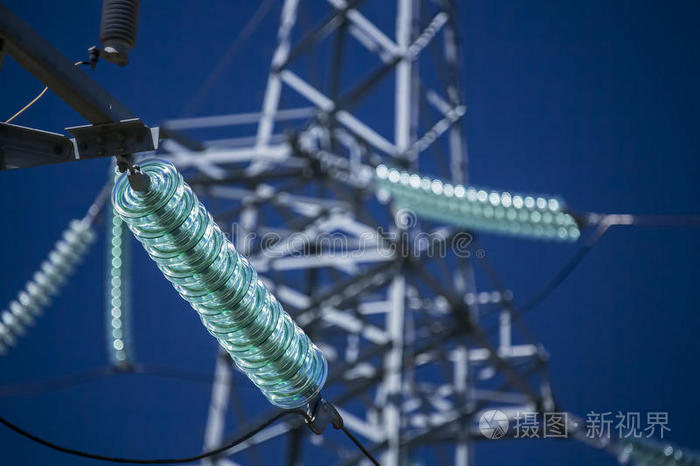insulator: (114, 162, 331, 406)
